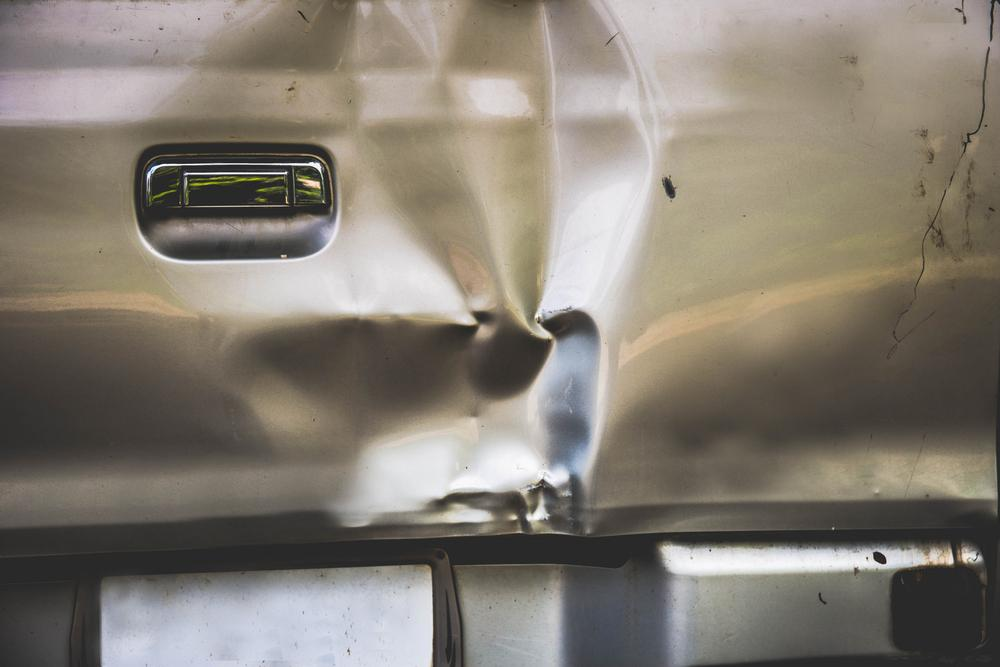crack: (892, 0, 999, 345)
dent: (149, 0, 661, 541)
